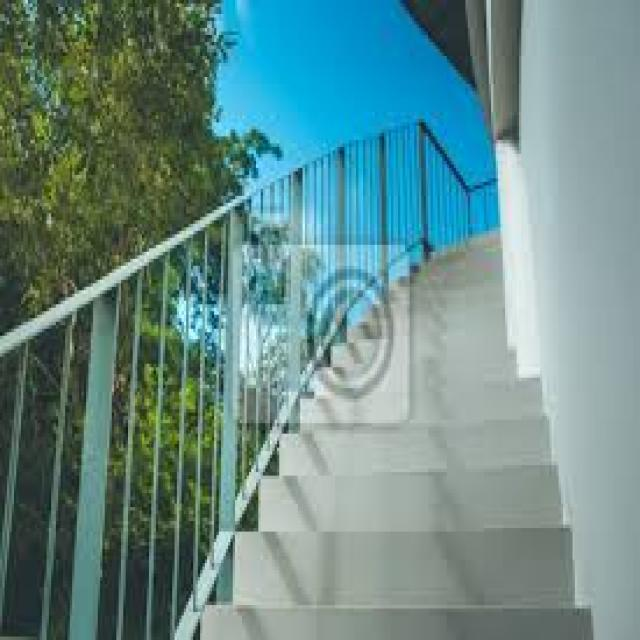upstair: (178, 222, 592, 631)
